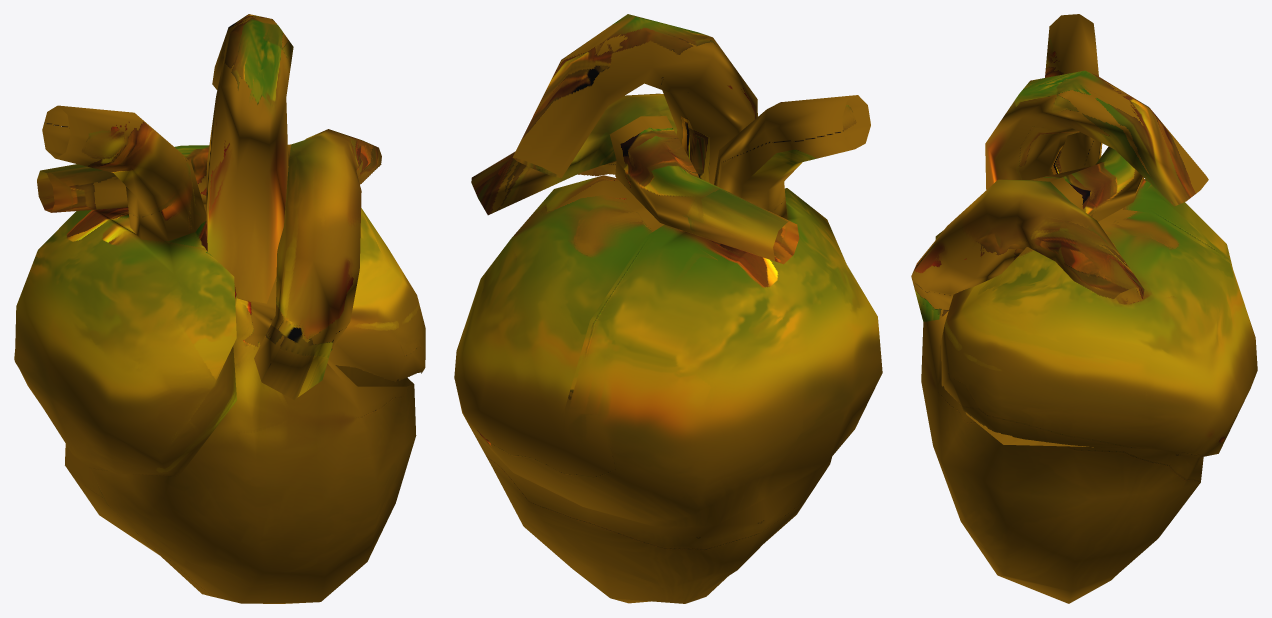
Rendered from hart.obj.
3 renders of one model, left to right at view 1: azimuth 30°, elevation 25°; view 2: azimuth 150°, elevation 25°; view 3: azimuth 270°, elevation 25°, orthographic. The views are drawn at different scales.
Visible parts, largest first — view 1: hart; view 2: hart; view 3: hart.
Boxes of the visible parts, bbox=[...] form: hart: bbox=[14, 14, 425, 603]; hart: bbox=[454, 14, 882, 603]; hart: bbox=[911, 14, 1257, 603].
Size of the model in its own units: 0.1698 by 0.2667 by 0.1597.
1 material, 1 textured.
